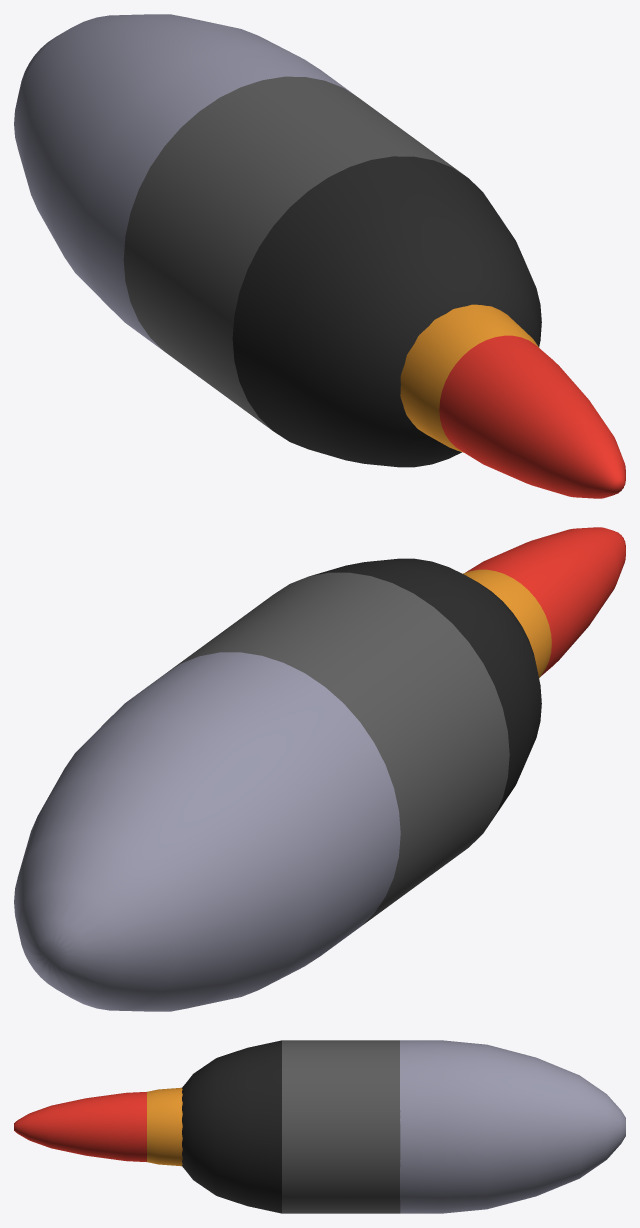
The model's file is Bullet.fbx.
3 renders of one model, top to bottom at view 1: azimuth 30°, elevation 25°; view 2: azimuth 150°, elevation 25°; view 3: azimuth 270°, elevation 25°, orthographic. The views are drawn at different scales.
Parts seen in each view (by area): view 1: polySurface65, polySurface66, pCylinder3, pCylinder5, pCylinder6; view 2: pCylinder3, polySurface66, polySurface65, pCylinder5, pCylinder6; view 3: pCylinder3, polySurface66, polySurface65, pCylinder5, pCylinder6.
Part boxes in pixels (bbox=[...]): polySurface65: bbox=[232, 156, 541, 467]; polySurface66: bbox=[123, 76, 466, 429]; pCylinder3: bbox=[14, 14, 356, 350]; pCylinder5: bbox=[439, 335, 625, 498]; pCylinder6: bbox=[400, 304, 539, 452]; pCylinder3: bbox=[14, 652, 400, 1011]; polySurface66: bbox=[167, 572, 509, 925]; polySurface65: bbox=[310, 558, 541, 815]; pCylinder5: bbox=[465, 527, 625, 676]; pCylinder6: bbox=[463, 569, 551, 677]; pCylinder3: bbox=[400, 1040, 625, 1213]; polySurface66: bbox=[282, 1040, 400, 1213]; polySurface65: bbox=[182, 1040, 281, 1213]; pCylinder5: bbox=[14, 1092, 146, 1161]; pCylinder6: bbox=[147, 1087, 182, 1166].
Size of the model in its own units: 321 by 321 by 1133.
